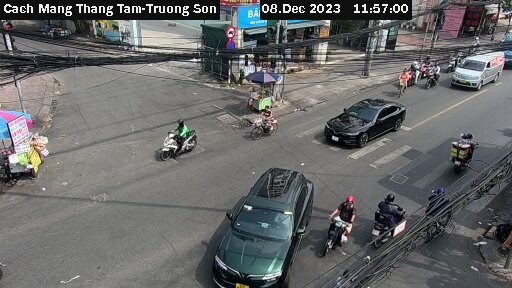car: (209, 162, 312, 288), (321, 90, 409, 143), (452, 49, 510, 89)
motorbike: (154, 115, 201, 165), (320, 196, 362, 251), (419, 184, 459, 234), (442, 127, 485, 173), (369, 195, 405, 239), (424, 63, 445, 88), (397, 64, 416, 91)
